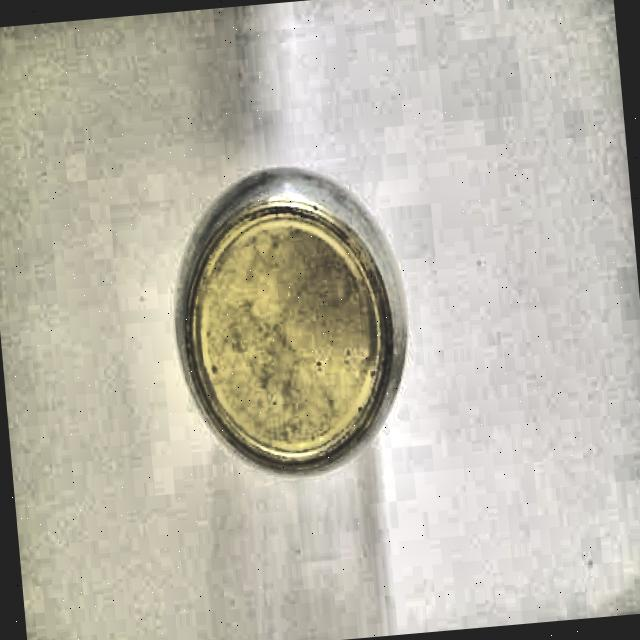metal: (178, 178, 418, 478)
